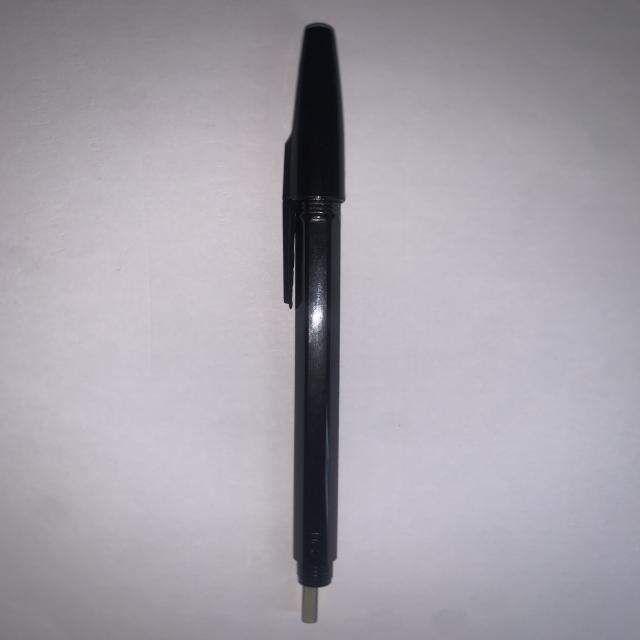Pulpen: (269, 21, 373, 632)
